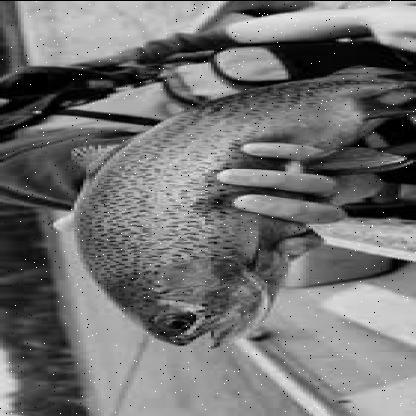fish: (64, 64, 414, 346)
